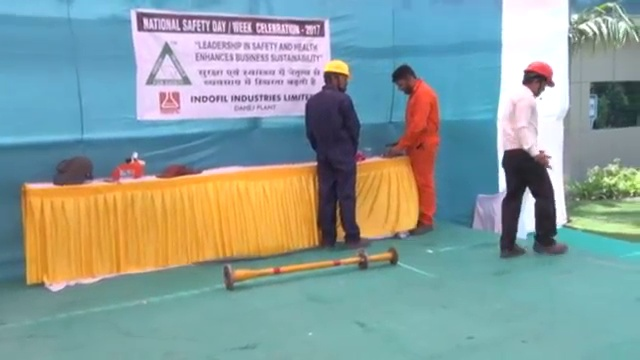helmet: (523, 60, 556, 88), (323, 58, 352, 78)
helmet_off: (391, 62, 421, 95)
helmet_on: (518, 58, 555, 97), (321, 57, 352, 93)
person: (498, 58, 569, 258), (304, 57, 372, 249), (386, 61, 438, 235)
